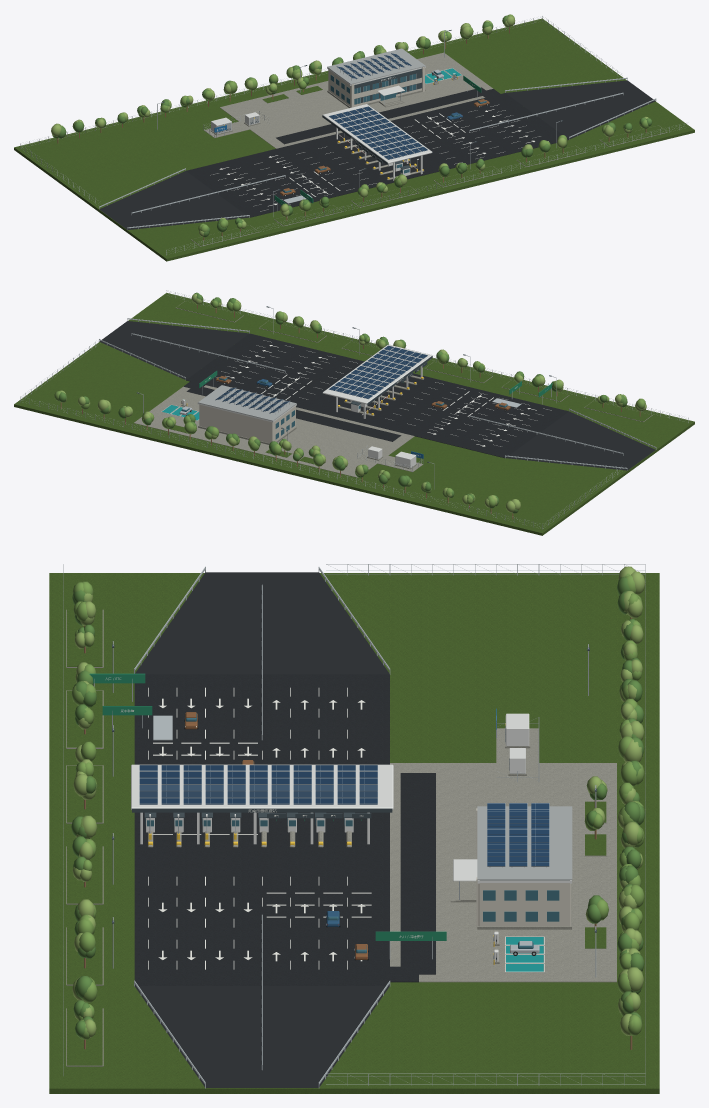
The model's file is toll_medium.glb.
The picture shows the model from 3 angles, top to bottom: view 1: azimuth 30°, elevation 25°; view 2: azimuth 150°, elevation 25°; view 3: azimuth 270°, elevation 25°; orthographic projection. The views are drawn at different scales.
Visible parts, largest first — view 1: static_lawn, static_asphalt_real, static_concrete_paving, static_galvanized_steel, static_leaf_2, static_leaf_0, static_white_aluminum, static_leaf_1, roof, static_road_marking, static_warm_limestone, static_anthracite_frame (+2 smaller); view 2: static_lawn, static_asphalt_real, static_concrete_paving, static_galvanized_steel, static_leaf_1, static_leaf_2, static_warm_limestone, static_leaf_0, static_white_aluminum, roof, static_road_marking, static_solar_busbar; view 3: static_lawn, static_asphalt_real, static_concrete_paving, static_galvanized_steel, static_leaf_2, static_leaf_1, static_white_aluminum, static_leaf_0, roof, static_warm_limestone, static_road_marking, static_solar_busbar (+5 smaller).
Part boxes in pixels (x1=…): static_lawn: x1=14, y1=18, x2=694, y2=261; static_asphalt_real: x1=99, y1=80, x2=655, y2=229; static_concrete_paving: x1=191, y1=52, x2=667, y2=246; static_galvanized_steel: x1=20, y1=16, x2=686, y2=255; static_leaf_2: x1=51, y1=16, x2=648, y2=236; static_leaf_0: x1=52, y1=15, x2=652, y2=237; static_white_aluminum: x1=323, y1=66, x2=432, y2=180; static_leaf_1: x1=60, y1=14, x2=648, y2=232; roof: x1=327, y1=48, x2=425, y2=84; static_road_marking: x1=210, y1=68, x2=548, y2=211; static_warm_limestone: x1=328, y1=66, x2=424, y2=107; static_anthracite_frame: x1=162, y1=30, x2=562, y2=190; static_lawn: x1=14, y1=292, x2=694, y2=535; static_asphalt_real: x1=99, y1=321, x2=655, y2=470; static_concrete_paving: x1=134, y1=301, x2=652, y2=477; static_galvanized_steel: x1=20, y1=290, x2=688, y2=529; static_leaf_1: x1=54, y1=295, x2=645, y2=506; static_leaf_2: x1=59, y1=294, x2=646, y2=512; static_warm_limestone: x1=199, y1=404, x2=295, y2=443; static_leaf_0: x1=58, y1=292, x2=642, y2=513; static_white_aluminum: x1=197, y1=344, x2=432, y2=422; roof: x1=198, y1=385, x2=296, y2=421; static_road_marking: x1=161, y1=340, x2=551, y2=446; static_solar_busbar: x1=219, y1=346, x2=423, y2=412; static_lawn: x1=49, y1=573, x2=659, y2=1093; static_asphalt_real: x1=134, y1=572, x2=435, y2=1087; static_concrete_paving: x1=66, y1=609, x2=616, y2=1066; static_galvanized_steel: x1=63, y1=564, x2=645, y2=1088; static_leaf_2: x1=72, y1=566, x2=645, y2=1037; static_leaf_1: x1=71, y1=573, x2=644, y2=1039; static_white_aluminum: x1=131, y1=764, x2=571, y2=883; static_leaf_0: x1=71, y1=576, x2=645, y2=1037; roof: x1=477, y1=806, x2=572, y2=880; static_warm_limestone: x1=476, y1=808, x2=570, y2=928; static_road_marking: x1=148, y1=687, x2=544, y2=972; static_solar_busbar: x1=140, y1=765, x2=548, y2=865.
Bounding box in the file's own units: 172 × 9.85 × 86.
29 materials, 3 textured.
